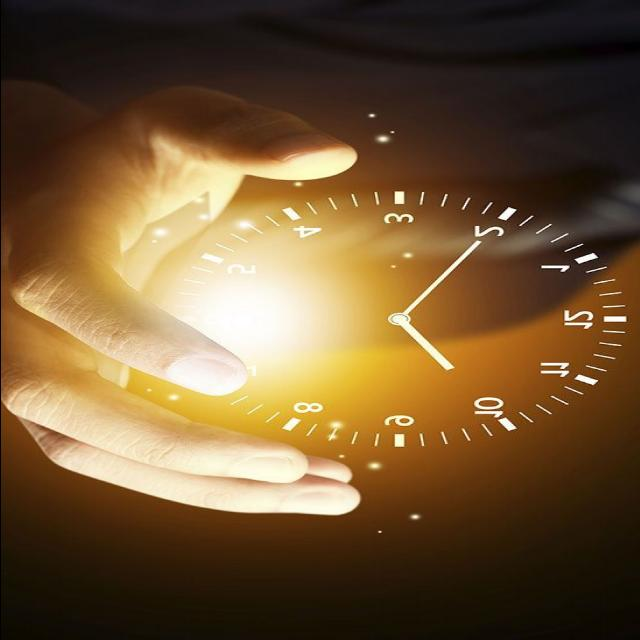clock: (135, 153, 554, 504)
